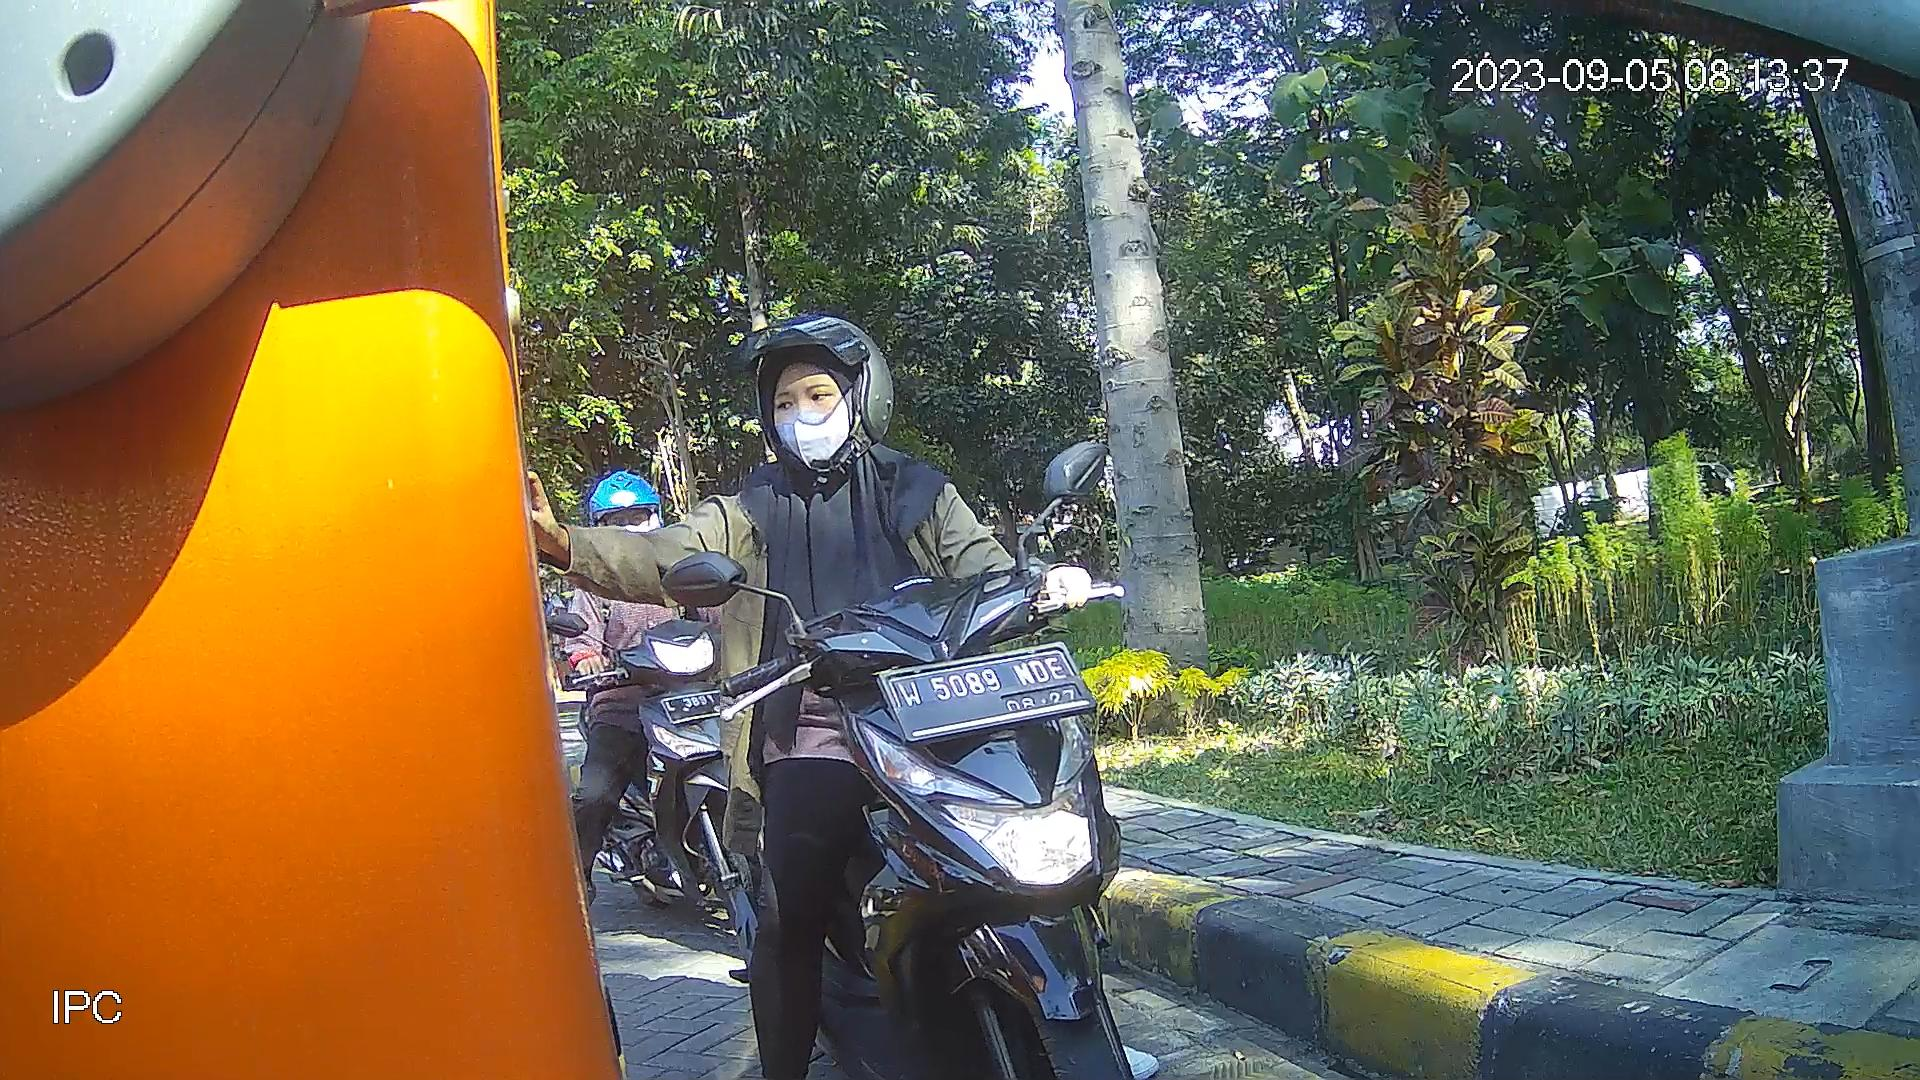plat: (876, 640, 1101, 742)
